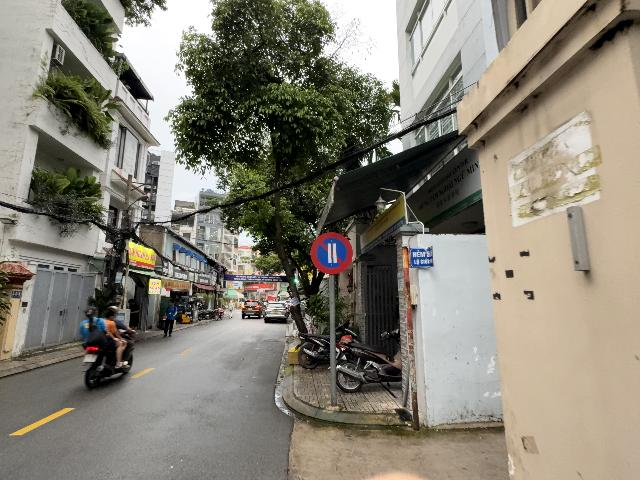cam-do-xe-ngay-chan: (310, 231, 353, 275)
